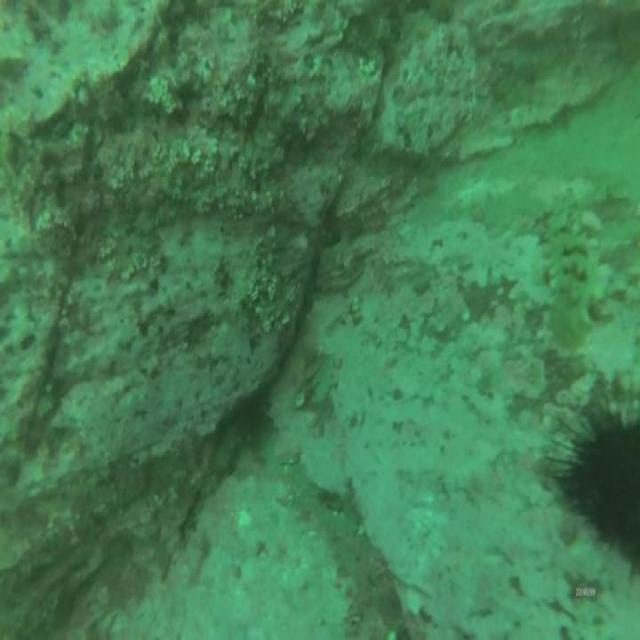echinus: (543, 387, 640, 585)
holothurian: (550, 212, 596, 344)
